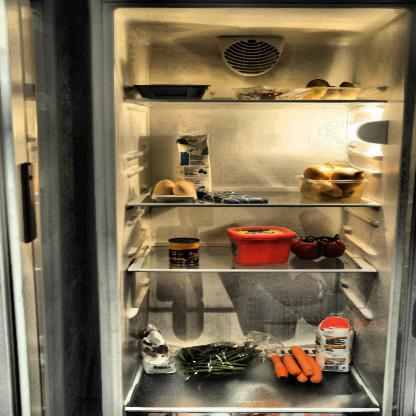butter: (222, 226, 296, 266)
carrot: (269, 346, 323, 384)
chocolate: (195, 192, 270, 204)
corn: (167, 237, 203, 266)
eggs: (154, 178, 195, 198)
green_beans: (178, 342, 260, 376)
milk: (176, 134, 211, 198)
onion: (303, 163, 362, 201)
potato: (303, 78, 362, 100)
shrimp: (233, 86, 299, 102)
tomato: (293, 235, 344, 260)
